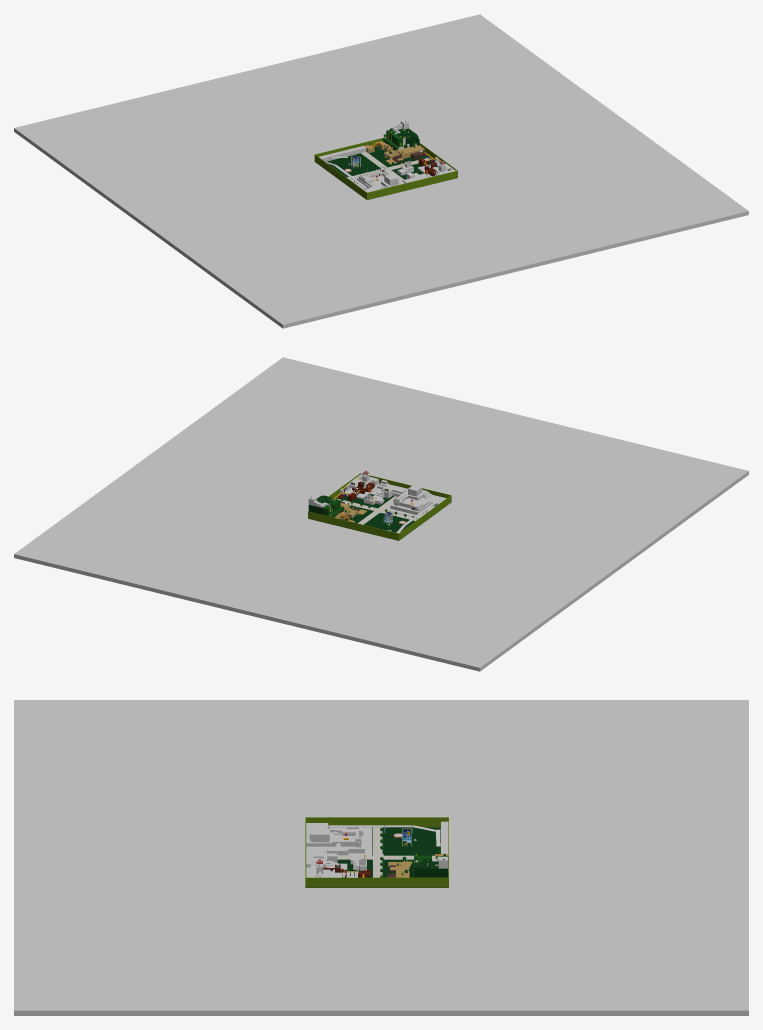
The model's file is CrossRoads.obj.
3 renders of one model, top to bottom at view 1: azimuth 30°, elevation 25°; view 2: azimuth 150°, elevation 25°; view 3: azimuth 270°, elevation 25°, orthographic. The views are drawn at different scales.
Parts seen in each view (by area): view 1: Baseplate1, Baseplate2, FrontWall1, TowerPlatform1; view 2: Baseplate1, Baseplate2, BackWall1; view 3: Baseplate1, Baseplate2, RightWall1, TowerPlatform1, LeftWall1.
Part boxes in pixels (x1,y1,x2,y2): Baseplate1: (14,14,748,328); Baseplate2: (15,15,747,324); FrontWall1: (367,170,457,199); TowerPlatform1: (327,153,379,177); Baseplate1: (14,357,748,671); Baseplate2: (15,358,747,667); BackWall1: (308,511,399,540); Baseplate1: (14,700,748,1015); Baseplate2: (14,700,748,1009); RightWall1: (306,877,448,887); TowerPlatform1: (382,827,440,855); LeftWall1: (306,817,448,827).
Bounding box in the file's own units: 2048 × 104 × 2048.
